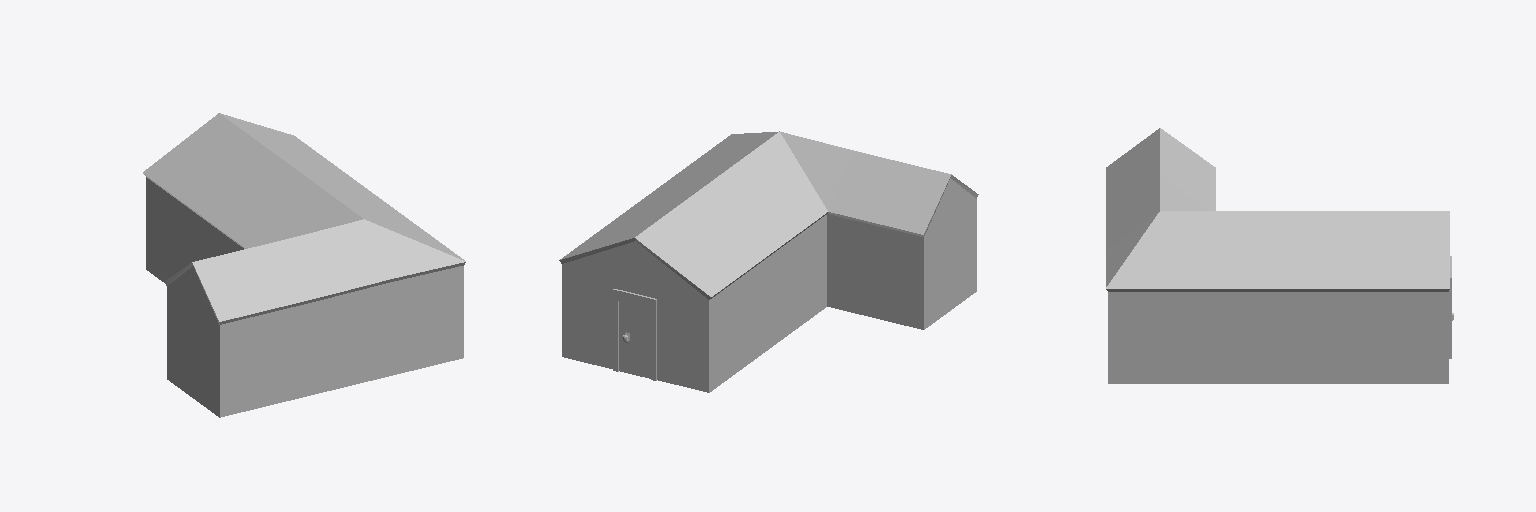
File: house.obj
3 renders of one model, left to right at view 1: azimuth 30°, elevation 25°; view 2: azimuth 150°, elevation 25°; view 3: azimuth 270°, elevation 25°, orthographic.
Visible parts, largest first — view 1: Cube_Cube.003; view 2: Cube_Cube.003, Cube.001_Cube.004; view 3: Cube_Cube.003.
Boxes of the visible parts, <box> form: Cube_Cube.003: <box>143,113,465,417</box>; Cube_Cube.003: <box>559,131,978,392</box>; Cube.001_Cube.004: <box>613,289,656,380</box>; Cube_Cube.003: <box>1106,128,1449,383</box>.
Bounding box in the file's own units: 16.74 × 8.91 × 20.43.